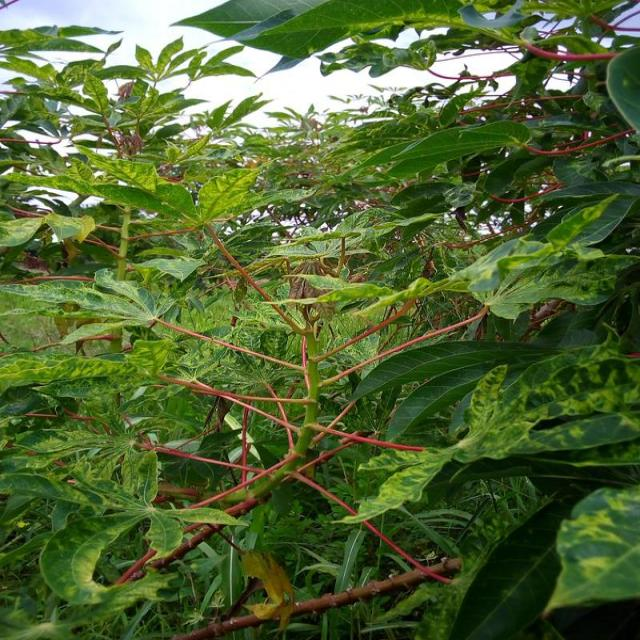cassava leaf: (0, 1, 638, 637), (337, 339, 638, 525)
